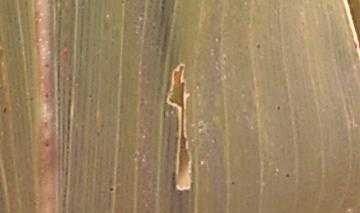tarspot: (253, 42, 263, 53), (41, 61, 50, 71), (107, 184, 115, 195), (283, 170, 291, 180), (275, 103, 283, 113), (43, 91, 51, 101), (1, 106, 8, 117), (230, 180, 237, 190), (44, 141, 51, 149)
